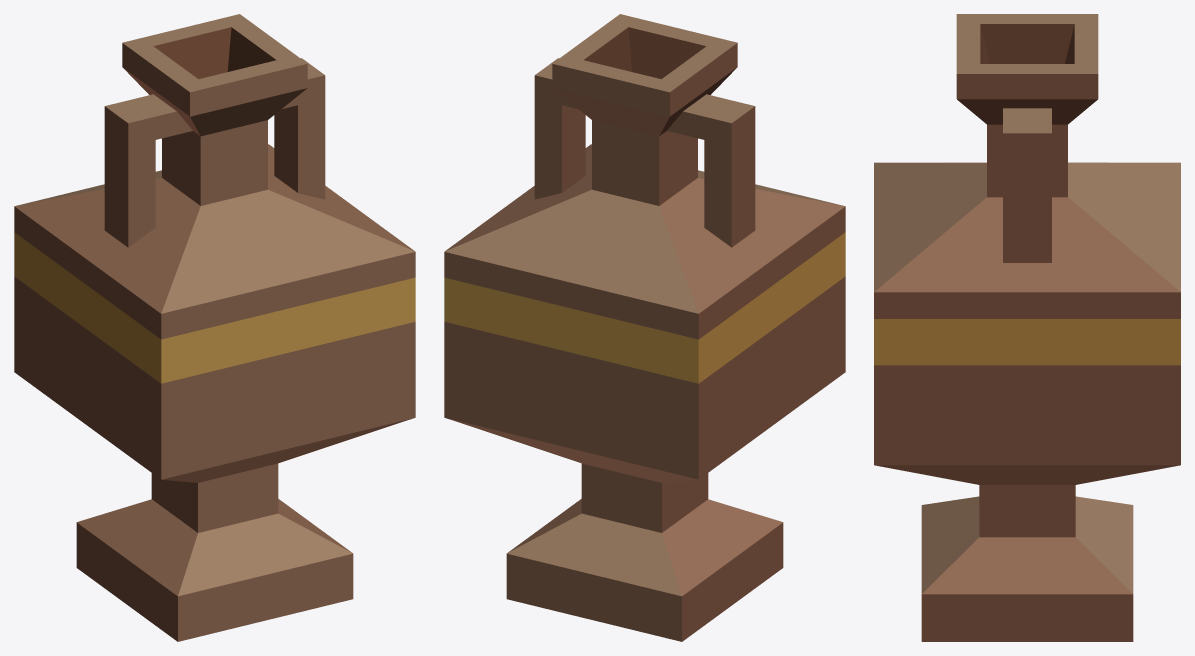
Rendered from ST_Prop_Vase_03.fbx.
3 renders of one model, left to right at view 1: azimuth 30°, elevation 25°; view 2: azimuth 150°, elevation 25°; view 3: azimuth 270°, elevation 25°, orthographic. The views are drawn at different scales.
Visible parts, largest first — view 1: ST_Prop_Vase_03; view 2: ST_Prop_Vase_03; view 3: ST_Prop_Vase_03.
Part boxes in pixels (<box>): ST_Prop_Vase_03: <box>14,14,415,641</box>; ST_Prop_Vase_03: <box>444,14,845,641</box>; ST_Prop_Vase_03: <box>874,14,1180,641</box>.
Bounding box in the file's own units: 0.7744 × 1.54 × 0.7744.
